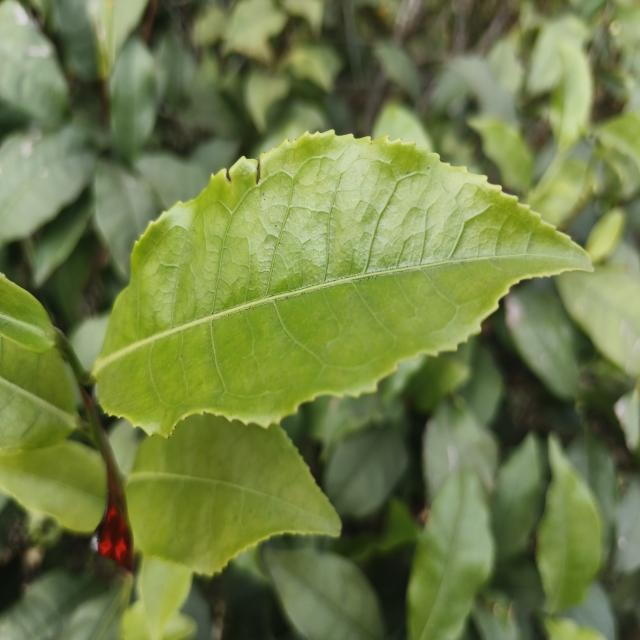Leaf: (94, 131, 590, 436), (126, 414, 341, 575), (407, 471, 494, 640), (536, 435, 602, 612), (0, 125, 96, 244), (263, 547, 384, 640), (0, 440, 106, 533), (556, 266, 640, 377), (0, 338, 79, 450), (0, 0, 69, 124), (505, 289, 580, 400), (323, 425, 408, 517), (93, 159, 158, 276), (423, 402, 498, 498), (0, 569, 97, 640), (492, 433, 546, 560), (109, 36, 157, 162), (468, 115, 532, 191), (550, 39, 592, 150), (137, 556, 192, 640), (0, 273, 56, 353), (227, 0, 287, 59), (244, 70, 290, 131), (585, 208, 626, 264)
